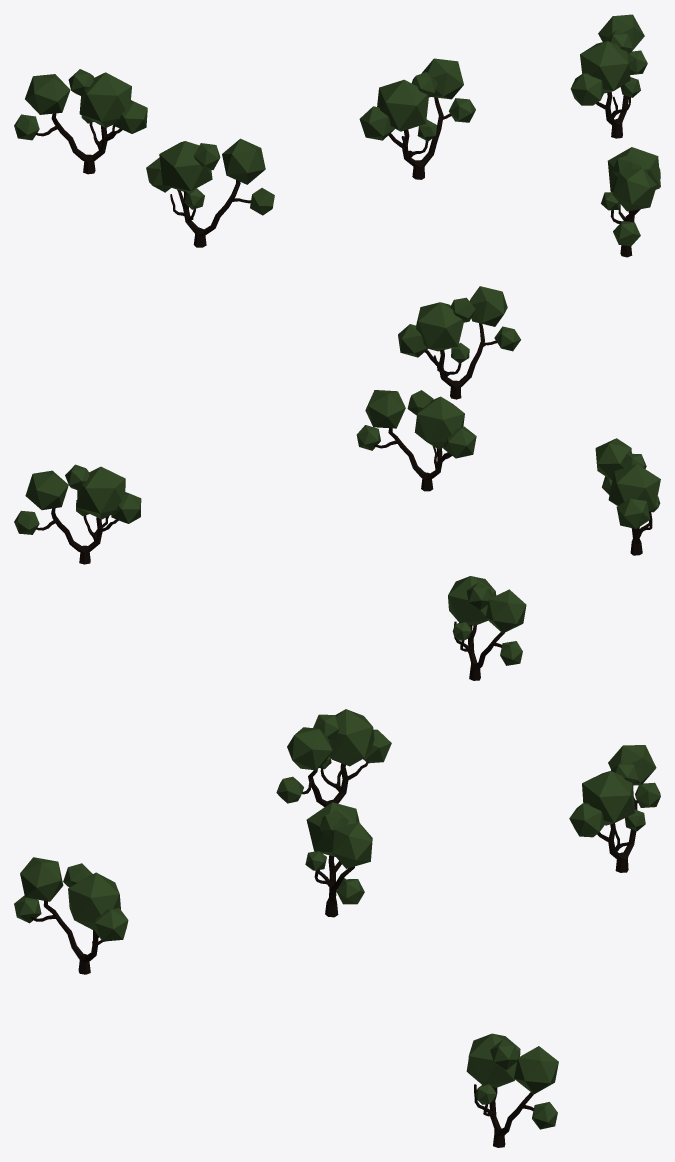
File: Trees.obj
3 renders of one model, top to bottom at view 1: azimuth 30°, elevation 25°; view 2: azimuth 150°, elevation 25°; view 3: azimuth 270°, elevation 25°, orthographic. The views are drawn at different scales.
Visible parts, largest first — view 1: Trees_Tree.008, Trees_Tree.007, Trees_Tree.006, Trees_Tree.002, Trees_Tree.009, Trees_Bark.008, Trees_Bark.007, Trees_Bark.006, Trees_Bark.002; view 2: Trees_Tree.009, Trees_Tree.002, Trees_Tree.007, Trees_Tree.006, Trees_Tree.008, Trees_Bark.009, Trees_Bark.002, Trees_Bark.007, Trees_Bark.008; view 3: Trees_Tree.009, Trees_Tree.008, Trees_Tree.006, Trees_Tree.002, Trees_Tree.007, Trees_Bark.002, Trees_Bark.009, Trees_Bark.006, Trees_Bark.007, Trees_Bark.008.
Boxes of the visible parts, x1,y1,x2,y2 form: Trees_Tree.008: (14, 69, 147, 140); Trees_Tree.007: (359, 58, 475, 141); Trees_Tree.006: (146, 138, 274, 215); Trees_Tree.002: (570, 14, 647, 105); Trees_Tree.009: (601, 147, 660, 246); Trees_Bark.008: (35, 113, 122, 174); Trees_Bark.007: (388, 97, 451, 179); Trees_Bark.006: (170, 180, 250, 247); Trees_Bark.002: (596, 91, 630, 138); Trees_Tree.009: (398, 286, 520, 363); Trees_Tree.002: (14, 464, 141, 534); Trees_Tree.007: (356, 390, 476, 458); Trees_Tree.006: (595, 438, 660, 528); Trees_Tree.008: (448, 576, 526, 665); Trees_Bark.009: (425, 323, 497, 399); Trees_Bark.002: (36, 508, 118, 564); Trees_Bark.007: (374, 428, 451, 491); Trees_Bark.008: (454, 621, 504, 680); Trees_Tree.009: (14, 857, 128, 941); Trees_Tree.008: (569, 745, 660, 837); Trees_Tree.006: (276, 709, 391, 803); Trees_Tree.002: (466, 1033, 558, 1129); Trees_Tree.007: (305, 802, 372, 904); Trees_Bark.002: (474, 1084, 533, 1147); Trees_Bark.009: (31, 901, 105, 974); Trees_Bark.006: (302, 761, 369, 806); Trees_Bark.007: (314, 855, 354, 917); Trees_Bark.008: (597, 798, 638, 872).
Bounding box in the file's own units: 157 × 48.69 × 146.
